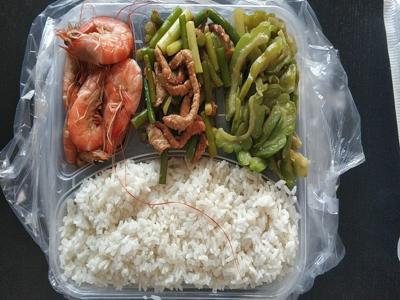rice: (59, 162, 311, 289)
st: (131, 5, 212, 156)
